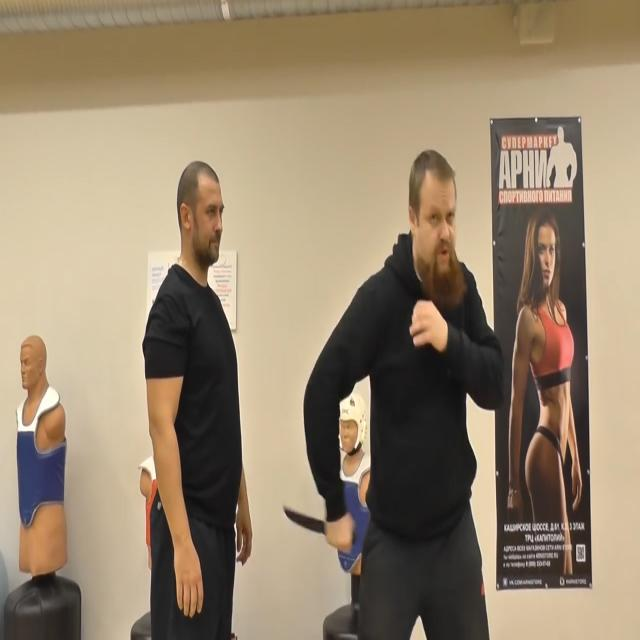knife: (284, 504, 328, 534)
